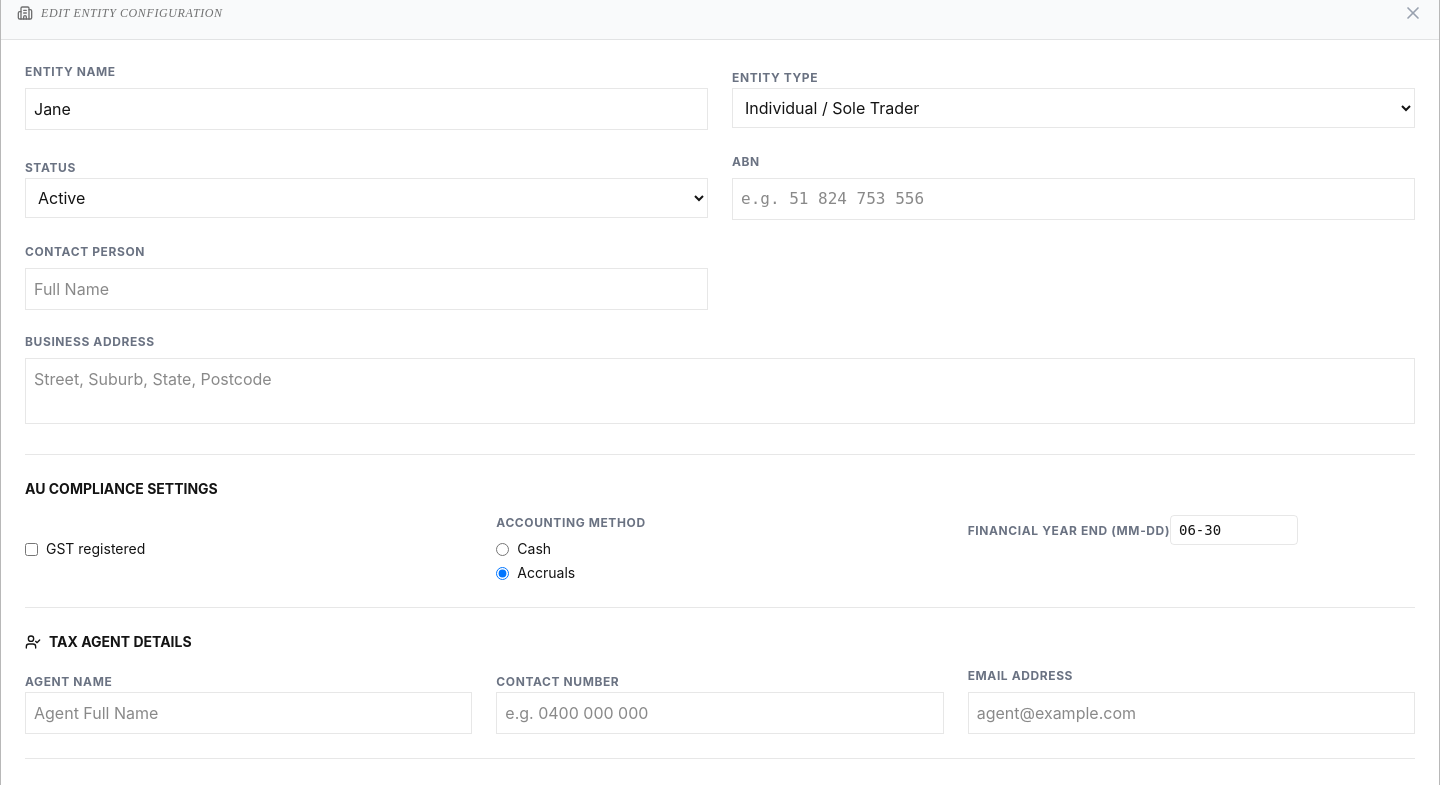
Test case: EntityForm — Phase 8 family Medicare fields (MED-04) › EF-FAM-3: Switching type Individual → Company hides both fields; switching back reveals them
Select "Company (Pty Ltd)" in the dropdown named "entity-type-select" at (1074, 108), box [732,88,1415,128]
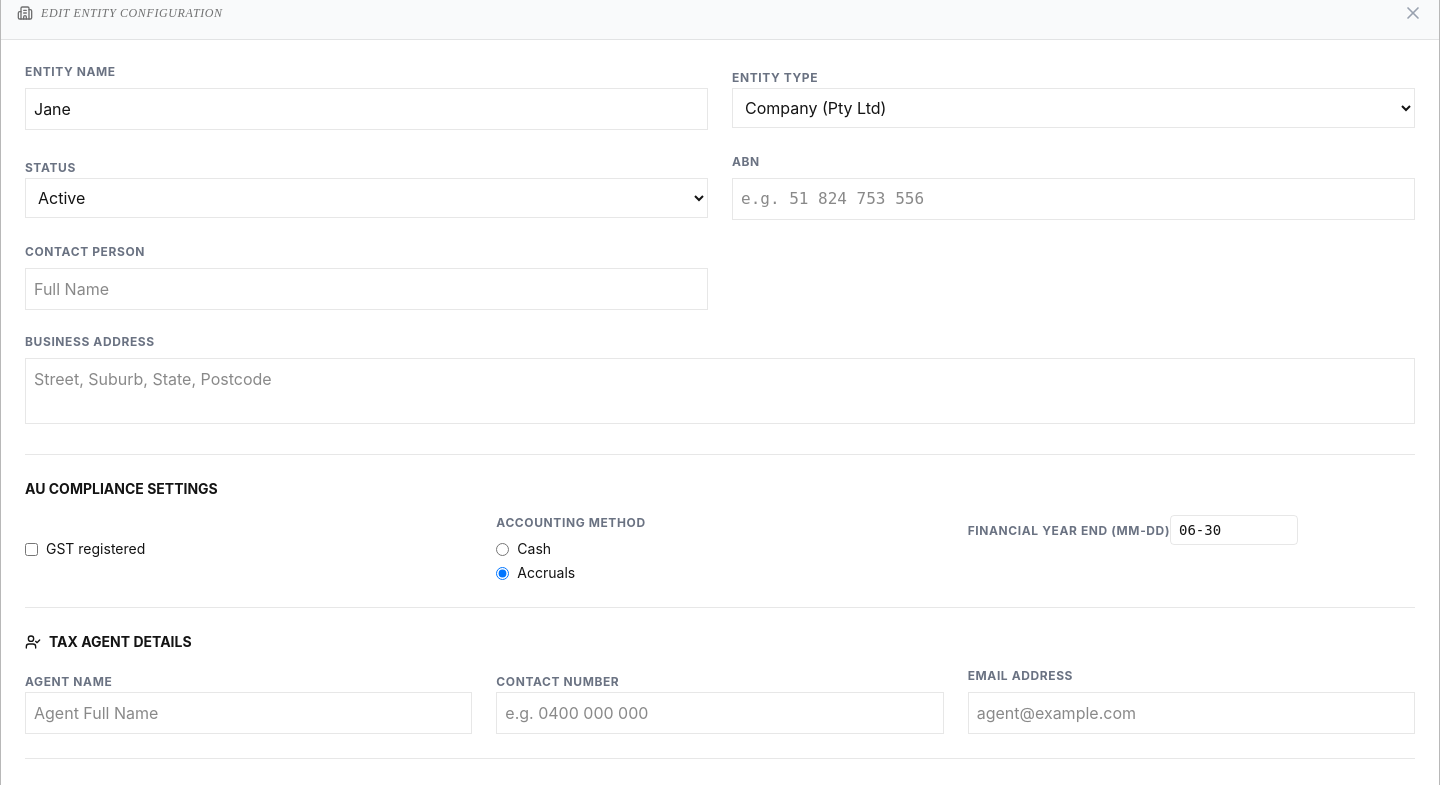
Select "Individual / Sole Trader" in the dropdown named "entity-type-select" at (1074, 108), box [732,88,1415,128]
(page scrolled)
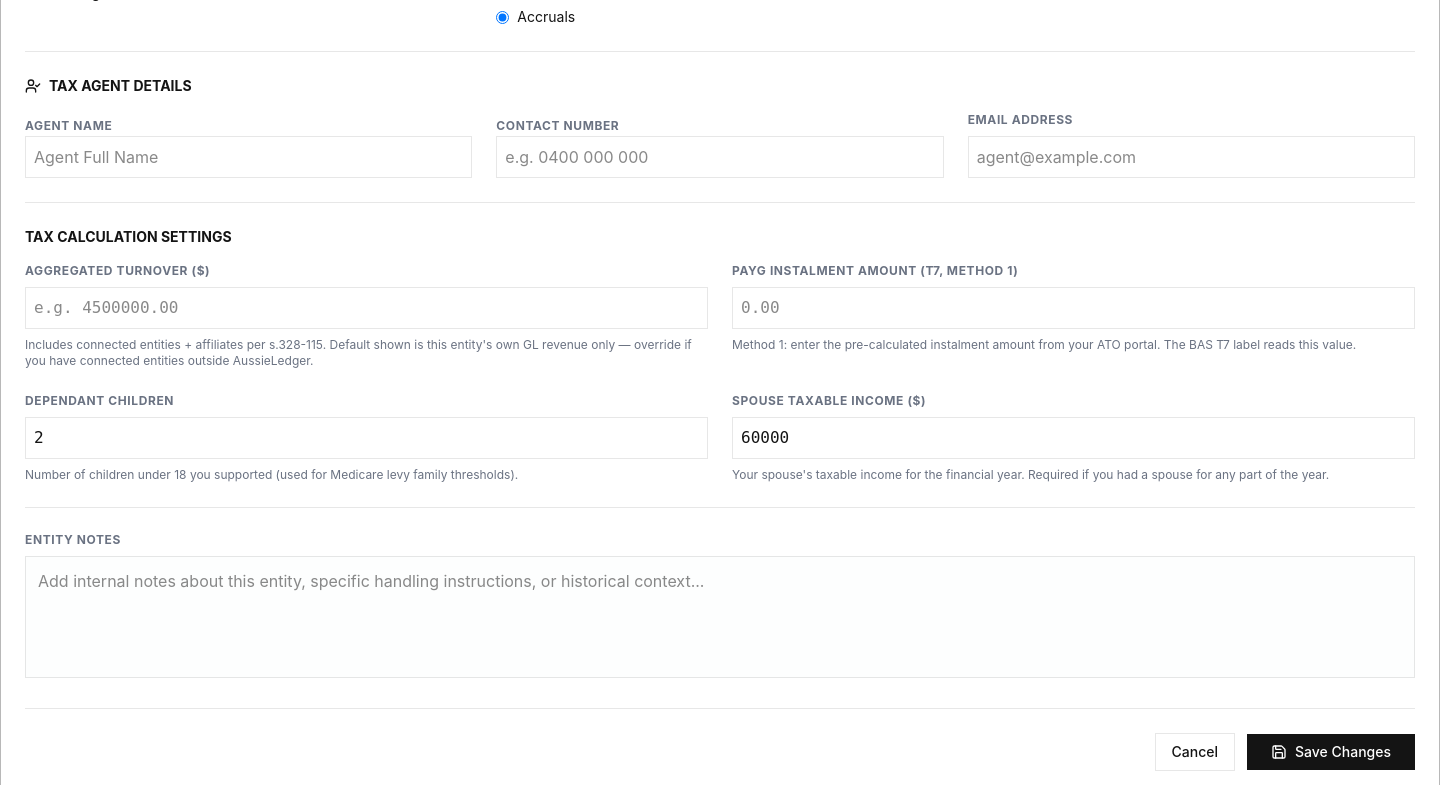
Result: the number field named "Dependant children count" holds "2" at [25,417,708,459]
Result: the field labelled "Spouse taxable income ($)" holds "60000" at [732,417,1415,459]
